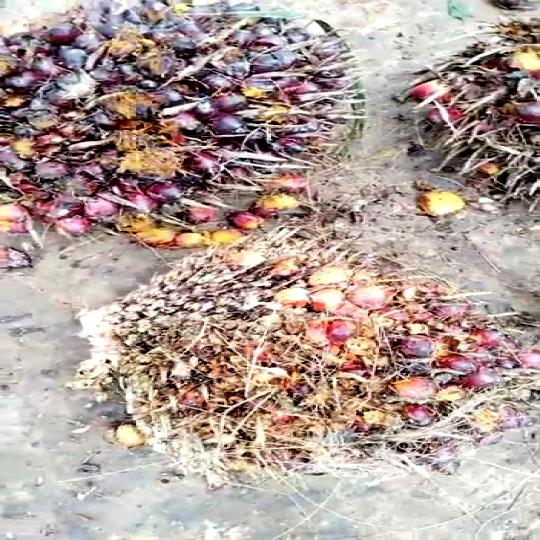masak: (71, 241, 540, 471), (0, 0, 372, 246)
